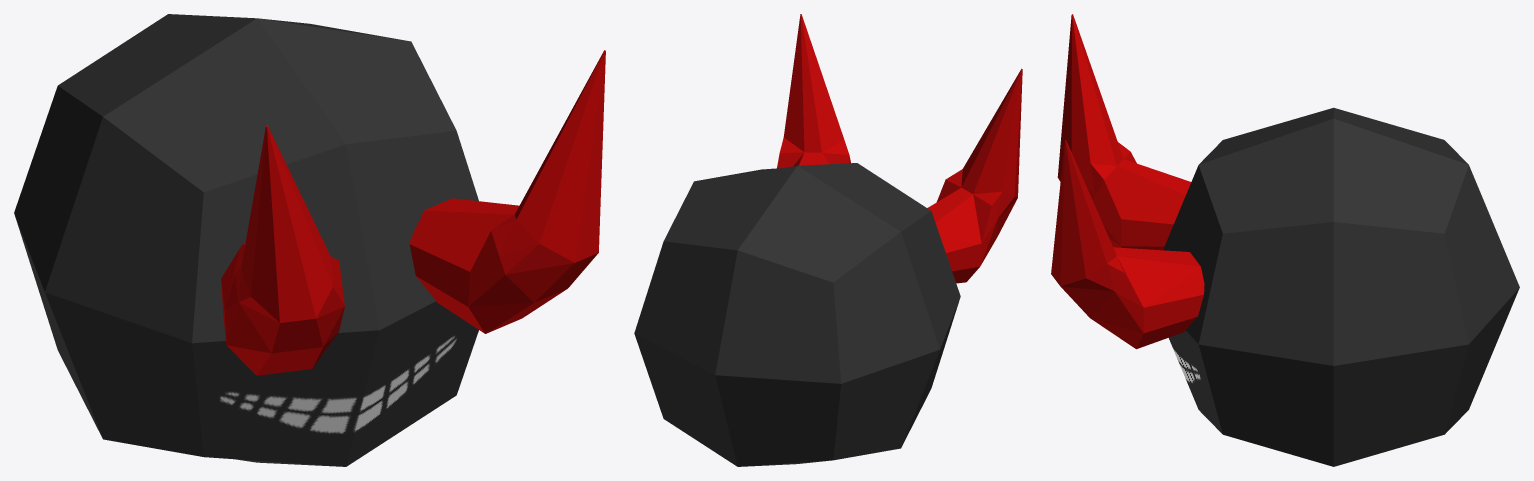
The model's file is boss_head.obj.
3 views of the same model, side by side, from view 1: azimuth 30°, elevation 25°; view 2: azimuth 150°, elevation 25°; view 3: azimuth 270°, elevation 25° (orthographic). The views are drawn at different scales.
Parts seen in each view (by area): view 1: Head, Horn_R, Horn_R.001; view 2: Head, Horn_R.001, Horn_R; view 3: Head, Horn_R, Horn_R.001.
Boxes of the visible parts, x1=… form: Head: x1=14, y1=14, x2=478, y2=466; Horn_R: x1=409, y1=50, x2=605, y2=333; Horn_R.001: x1=221, y1=125, x2=344, y2=375; Head: x1=634, y1=163, x2=960, y2=466; Horn_R.001: x1=927, y1=68, x2=1022, y2=283; Horn_R: x1=777, y1=14, x2=850, y2=168; Head: x1=1163, y1=107, x2=1519, y2=466; Horn_R: x1=1051, y1=140, x2=1204, y2=349; Horn_R.001: x1=1057, y1=14, x2=1191, y2=250.
Size of the model in its own units: 0.8054 by 0.9114 by 1.01.
1 material, 1 textured.
